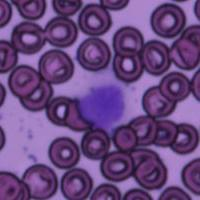L: (79, 80, 128, 130)
